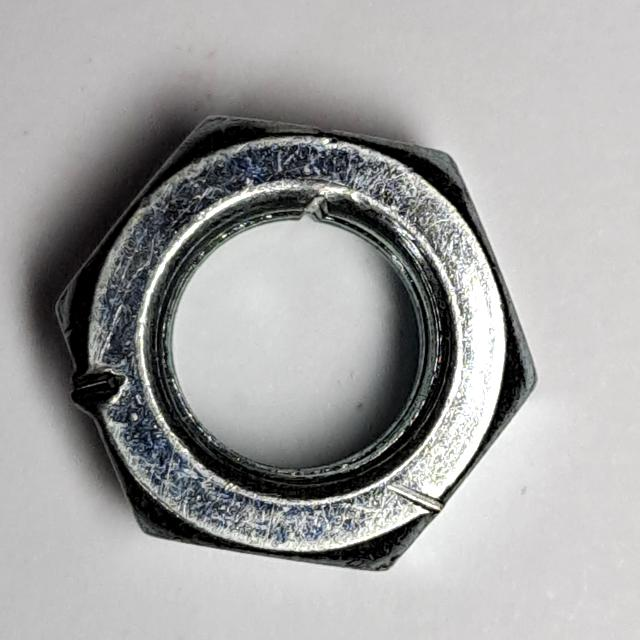Scratches: (47, 96, 553, 596)
